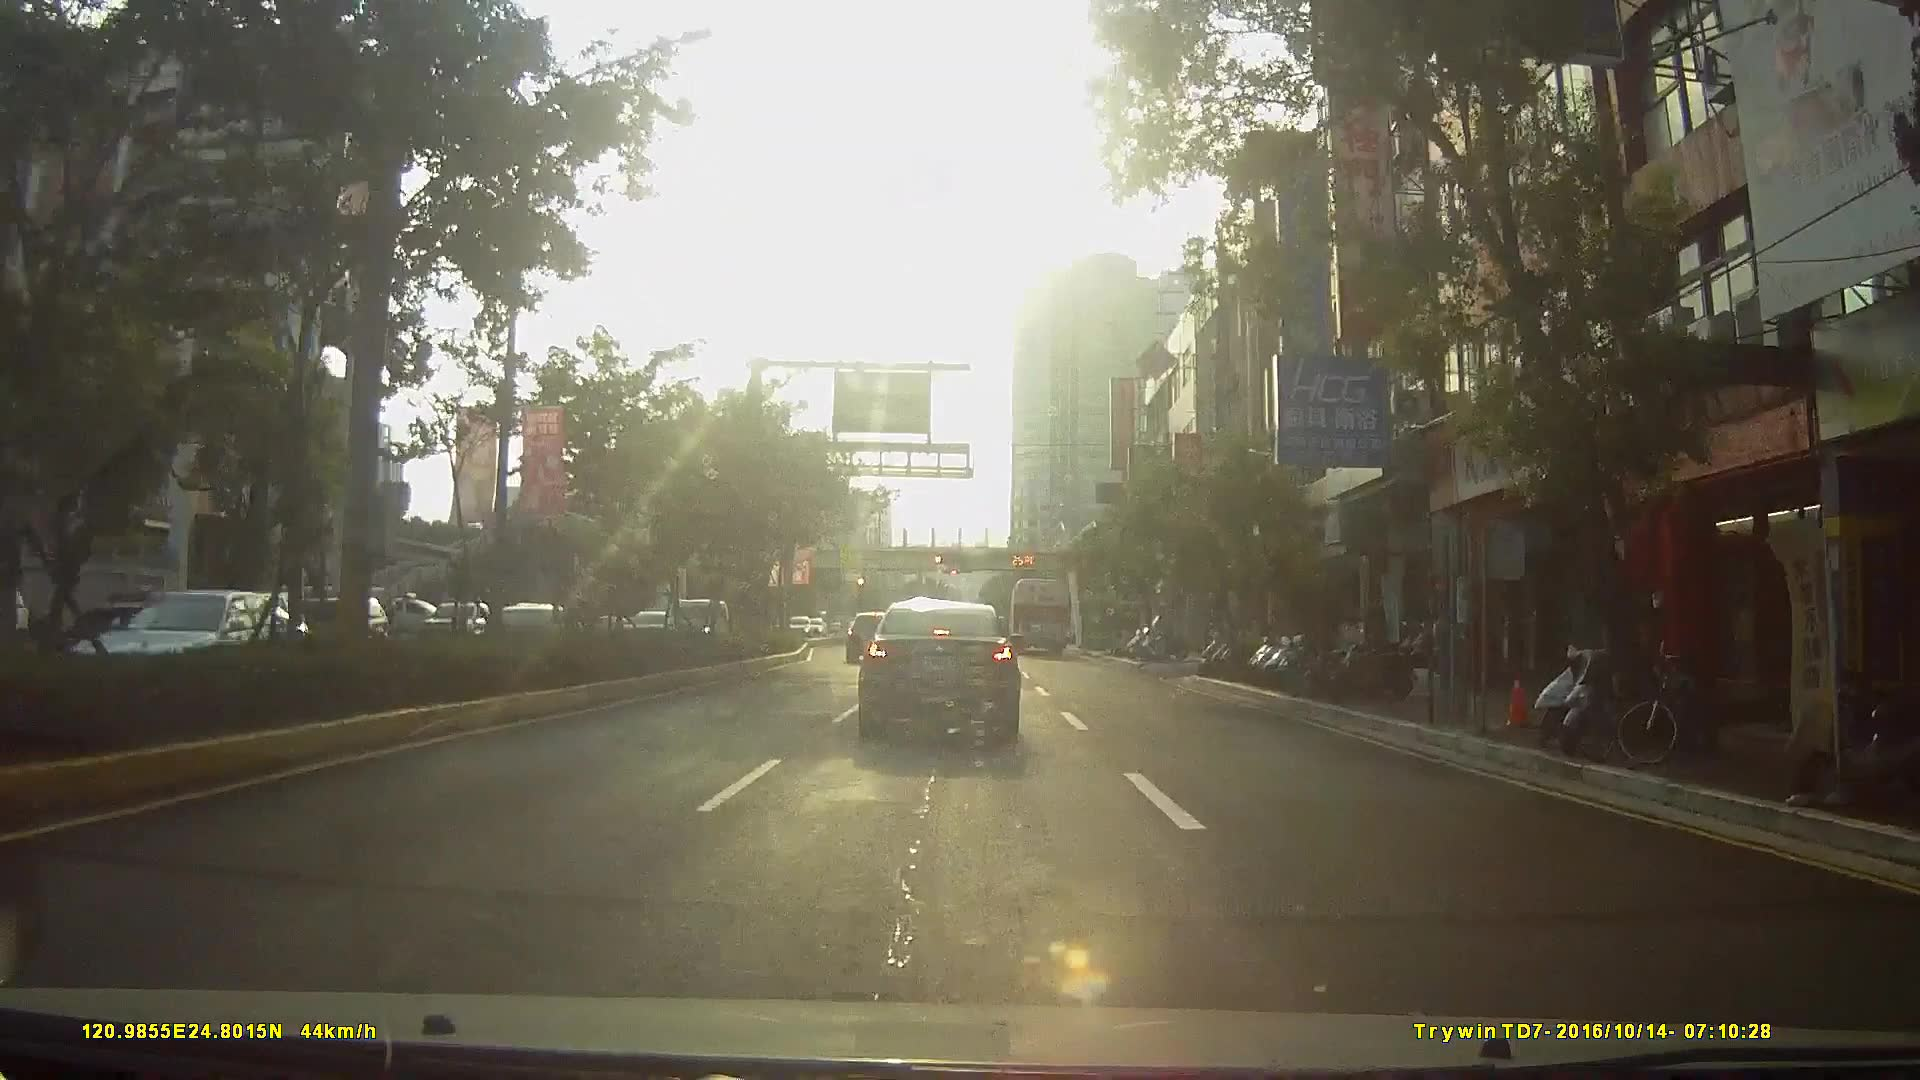vehicle: (66, 585, 302, 688), (857, 601, 1022, 744), (183, 591, 294, 661), (291, 593, 384, 655), (1006, 576, 1073, 655), (845, 611, 895, 663)
